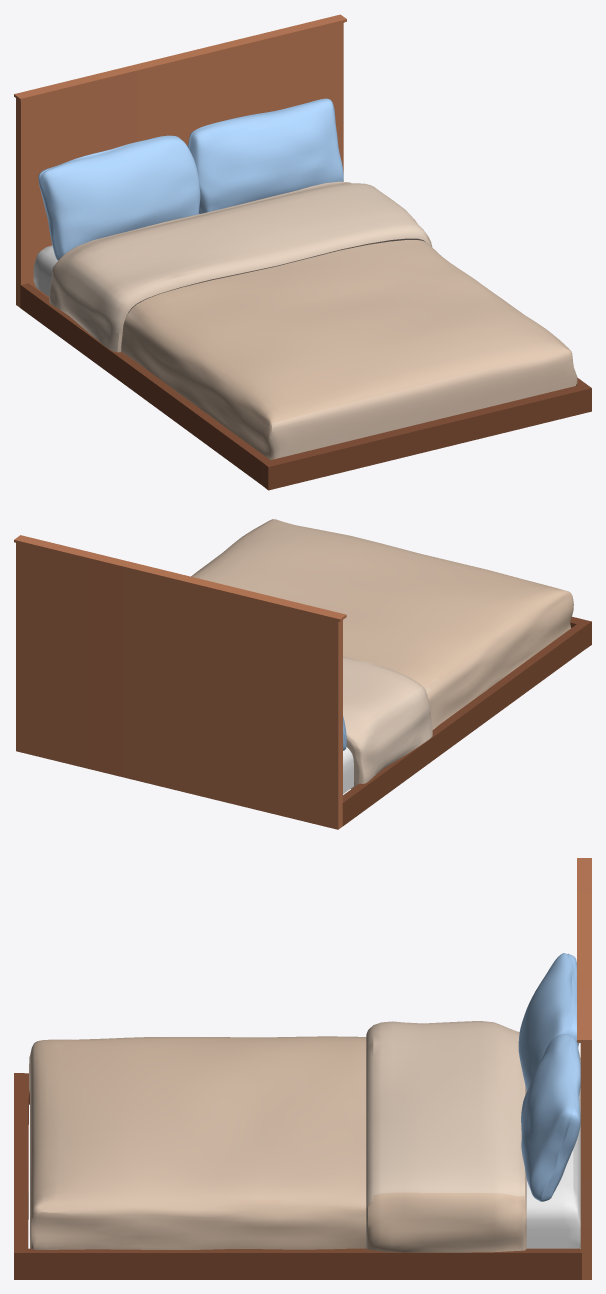
Rendered from Bed.fbx.
The picture shows the model from 3 angles, top to bottom: view 1: azimuth 30°, elevation 25°; view 2: azimuth 150°, elevation 25°; view 3: azimuth 270°, elevation 25°; orthographic projection. The views are drawn at different scales.
Visible parts, largest first — view 1: bed; view 2: bed; view 3: bed.
Boxes of the visible parts, x1,y1,x2,y2 form: bed: [14, 14, 591, 490]; bed: [14, 519, 591, 829]; bed: [14, 858, 591, 1279].
Bounding box in the file's own units: 628 × 387 × 841.
Materials: 1 (1 with a texture image).
